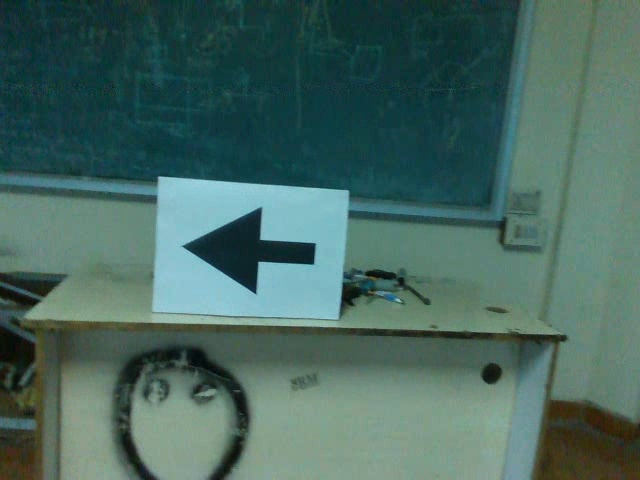Left: (177, 201, 322, 300)
